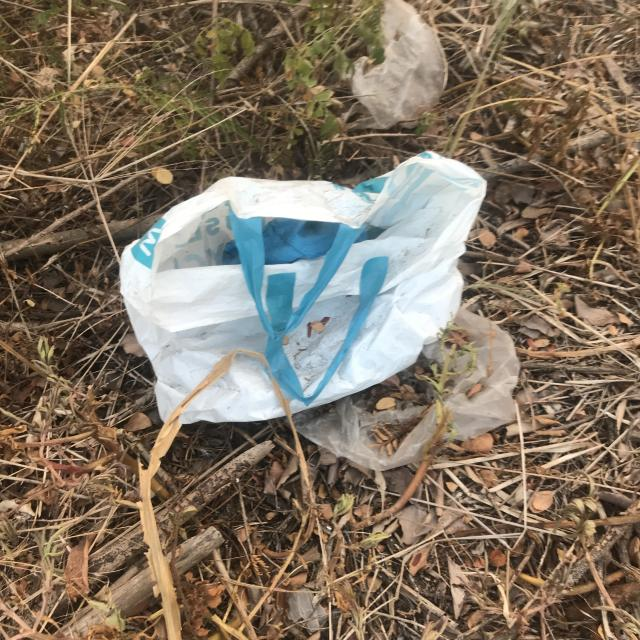Single-layer Plastic: (124, 154, 489, 427), (352, 0, 446, 129)
